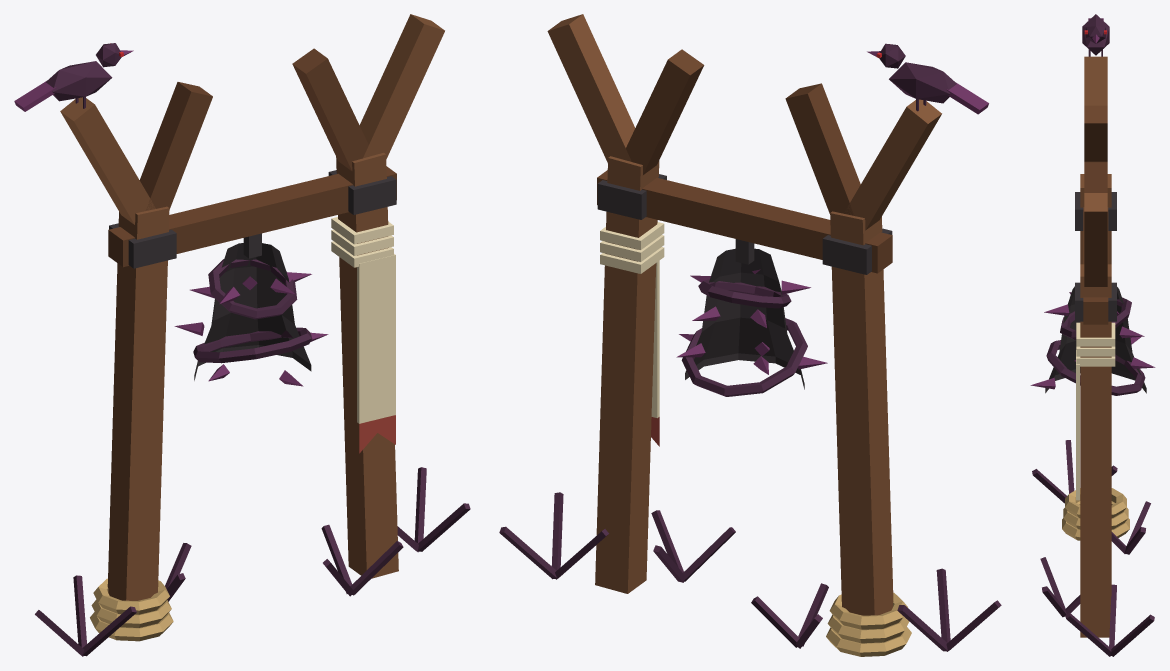
The model's file is belfry-silent.glb.
3 views of the same model, side by side, from view 1: azimuth 30°, elevation 25°; view 2: azimuth 150°, elevation 25°; view 3: azimuth 270°, elevation 25° (orthographic). The views are drawn at different scales.
Parts seen in each view (by area): view 1: belfry-silent, bell; view 2: belfry-silent, bell; view 3: belfry-silent, bell.
Part boxes in pixels (<box>): belfry-silent: <box>14,14,470,656</box>; bell: <box>174,243,328,386</box>; belfry-silent: <box>499,14,1001,656</box>; bell: <box>676,248,827,396</box>; belfry-silent: <box>1032,14,1154,656</box>; bell: <box>1030,286,1155,395</box>.
Size of the model in its own units: 2.76 by 3.55 by 0.8082.
